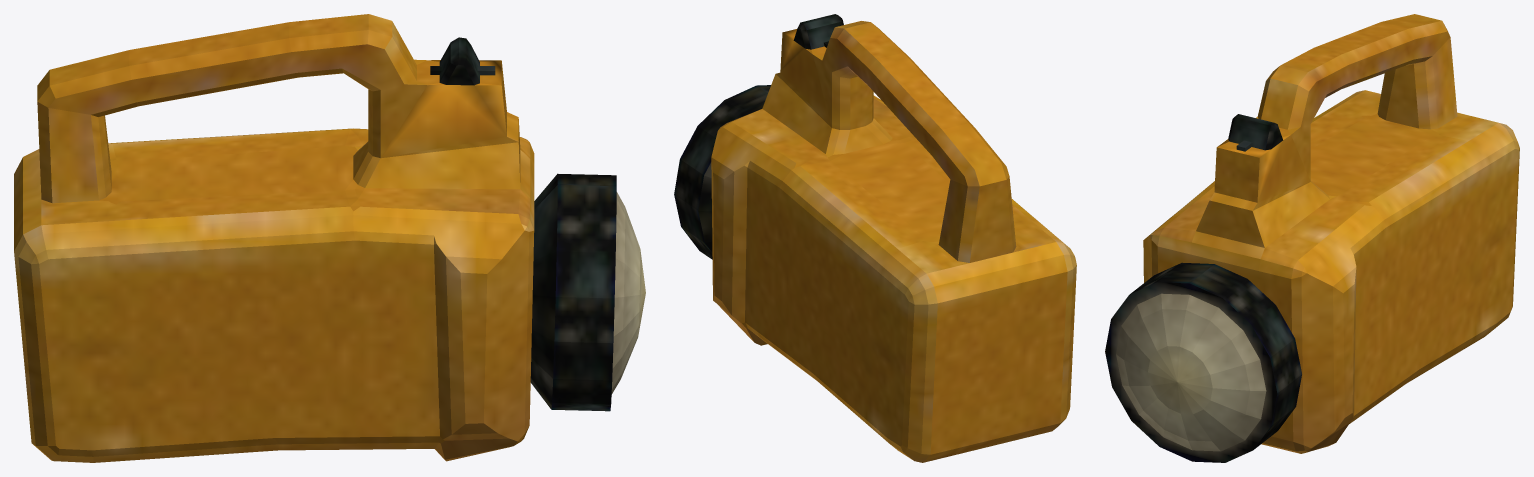
3 renders of one model, left to right at view 1: azimuth 30°, elevation 25°; view 2: azimuth 150°, elevation 25°; view 3: azimuth 270°, elevation 25°, orthographic. The views are drawn at different scales.
Parts seen in each view (by area): view 1: flashlight_1; view 2: flashlight_1; view 3: flashlight_1.
Part boxes in pixels (bbox=[...]): flashlight_1: bbox=[14, 14, 645, 462]; flashlight_1: bbox=[674, 14, 1076, 462]; flashlight_1: bbox=[1105, 14, 1519, 462].
Size of the model in its own units: 0.3812 by 0.2701 by 0.3003.
Materials: 1 (1 with a texture image).
